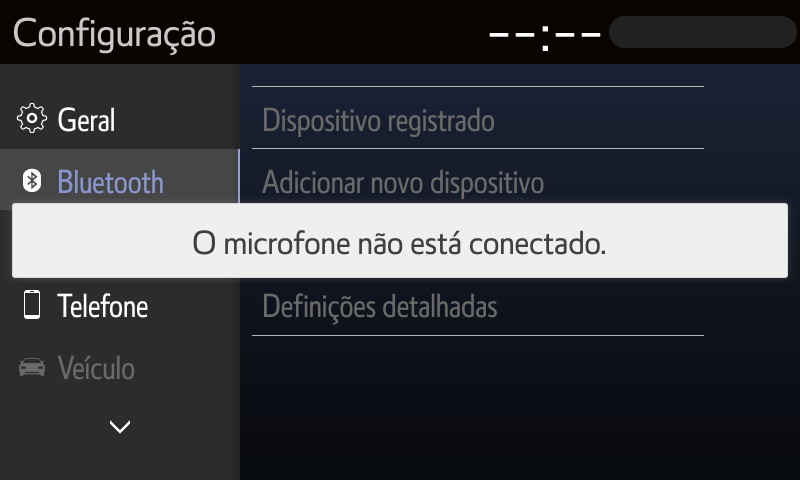touchPart: (16, 284, 154, 323), (6, 98, 144, 135), (104, 410, 137, 439)
untouchPart: (251, 84, 710, 152), (255, 277, 706, 341), (252, 147, 708, 206), (1, 146, 239, 208), (477, 10, 796, 55), (10, 12, 218, 61), (18, 346, 145, 389)
